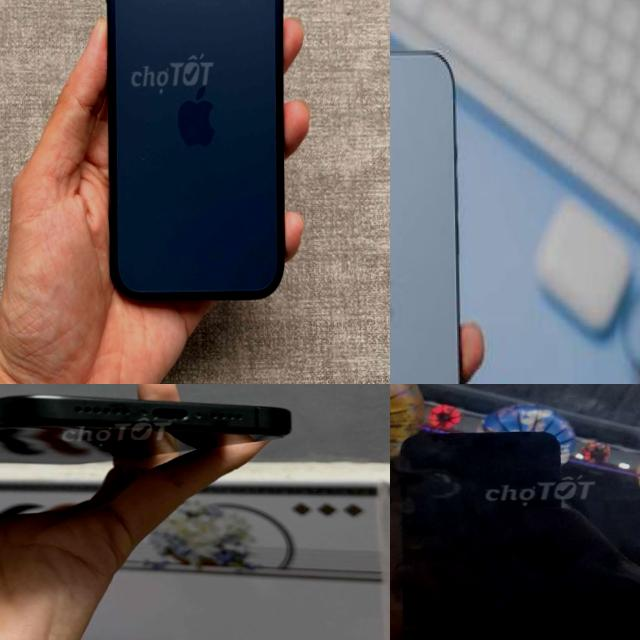gen_12_13: (390, 384, 640, 640), (390, 44, 468, 384)
gen_15: (0, 384, 309, 492)
gen_17: (97, 0, 295, 309)
